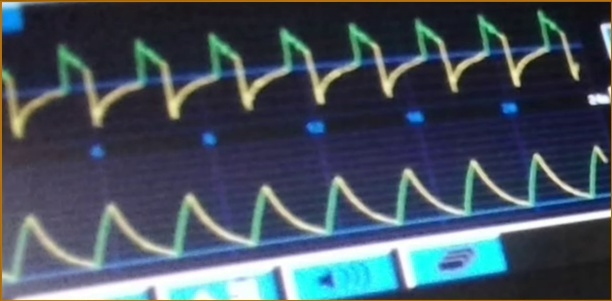Accumulation Flow: (5, 8, 580, 140)
Volume: (2, 145, 608, 282)
